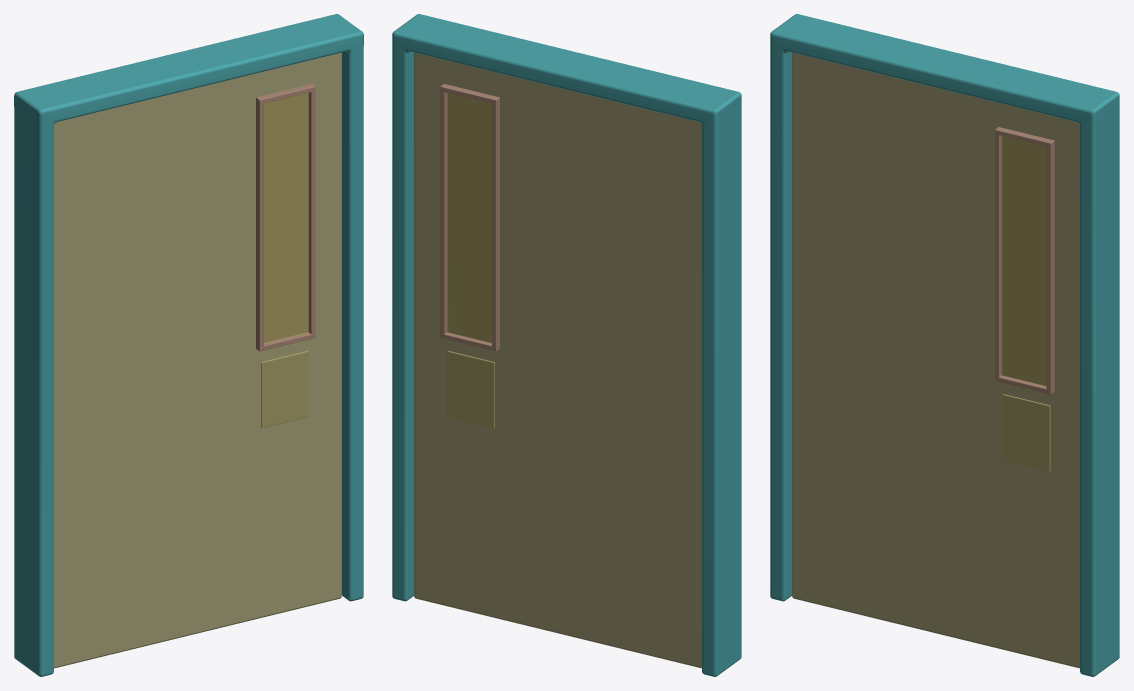
The model's file is Door_Small.fbx.
3 renders of one model, left to right at view 1: azimuth 30°, elevation 25°; view 2: azimuth 150°, elevation 25°; view 3: azimuth 330°, elevation 25°, orthographic.
Parts seen in each view (by area): view 1: Door_Main, Door_Frame; view 2: Door_Main, Door_Frame; view 3: Door_Main, Door_Frame.
Boxes of the visible parts, x1=… form: Door_Main: x1=54, y1=52, x2=341, y2=668; Door_Frame: x1=14, y1=14, x2=363, y2=676; Door_Main: x1=414, y1=52, x2=701, y2=668; Door_Frame: x1=392, y1=14, x2=741, y2=676; Door_Main: x1=792, y1=52, x2=1079, y2=668; Door_Frame: x1=770, y1=14, x2=1119, y2=676.
Size of the model in its own units: 4.2 by 7.01 by 0.6.
